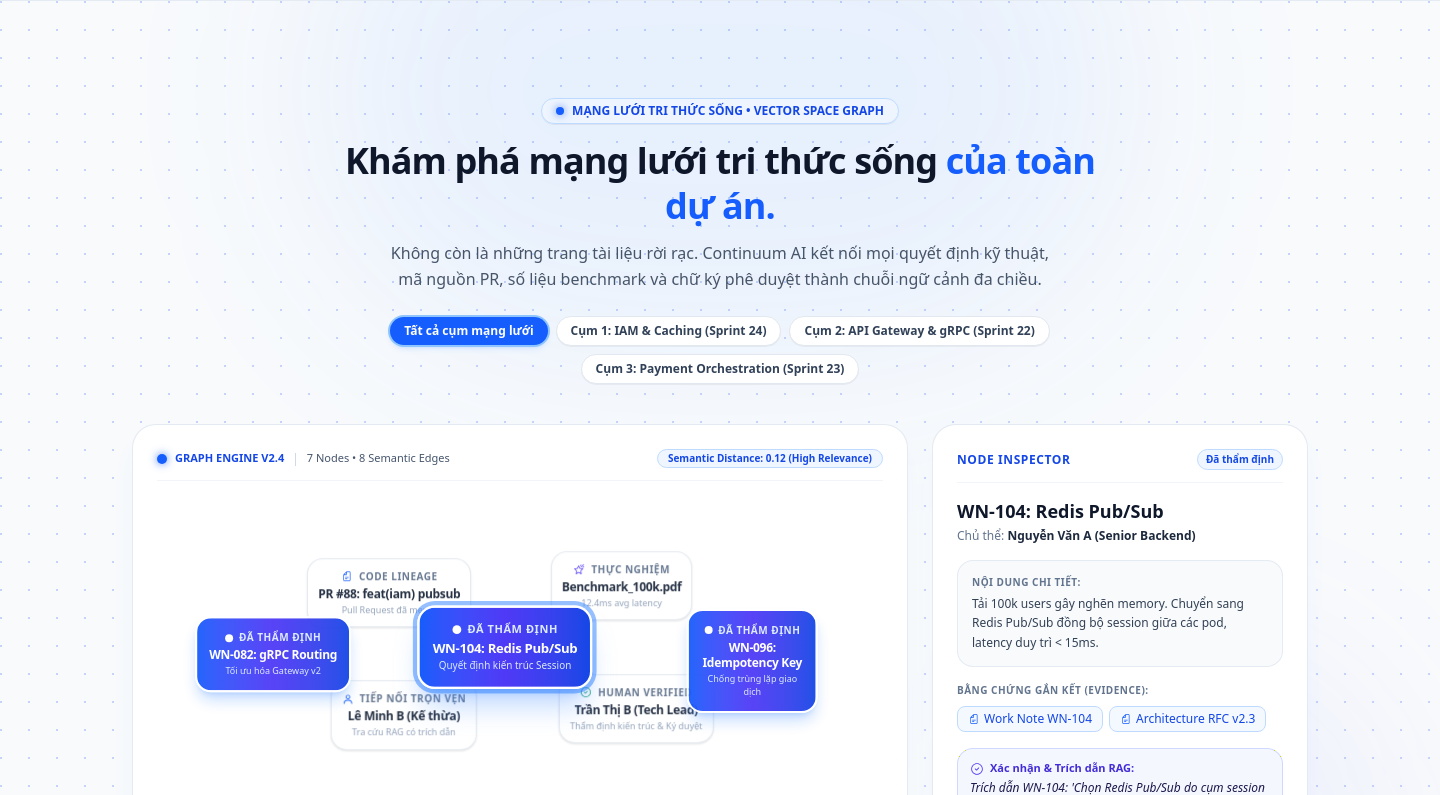
Test: Continuum AI — Living Knowledge Experience › KnowledgeGraphExperience (Full-Width Cinematic Graph) › renders living knowledge graph with clusters, node inspector, and RAG simulation
Expected: the text "MẠNG LƯỚI TRI THỨC SỐNG • VECTOR SPACE GRAPH" is shown, [572,103,884,119]
Expected: the heading "Khám phá mạng lưới tri thức sống" is shown, [345,136,937,185]
# Switch cluster
What coordinates should you click on to do the following:
click the button "Cụm 2: API Gateway & gRPC (Sprint 22)"
I would click on:
 (920, 331)
Its box is [790,316,1050,346].
(page scrolled)
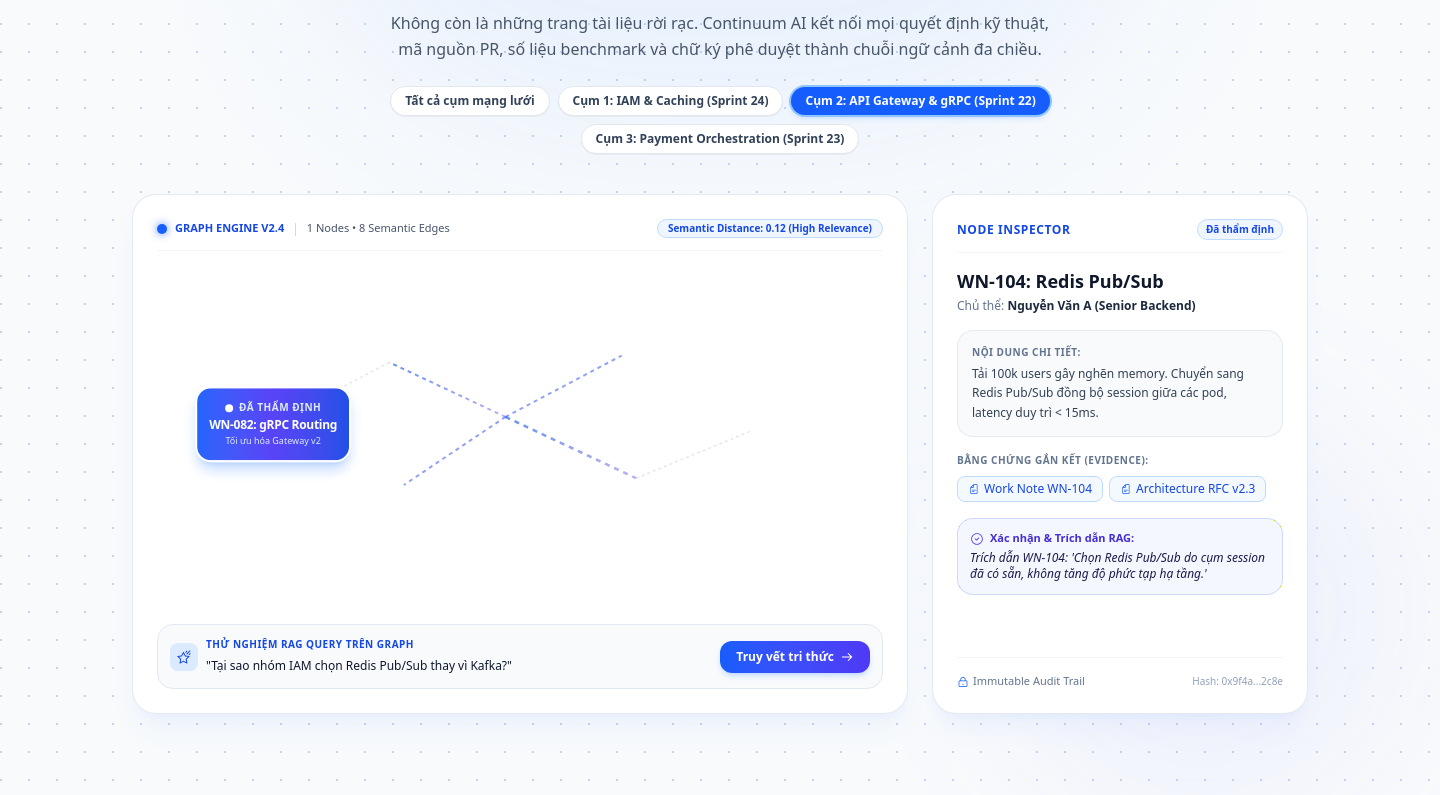
Expected: the text "WN-082: gRPC Routing" is shown, [209,417,337,432]
# Simulate query
What coordinates should you click on to do the following:
click the button "Truy vết tri thức"
I would click on:
 (795, 656)
Its box is [720,640,870,672].
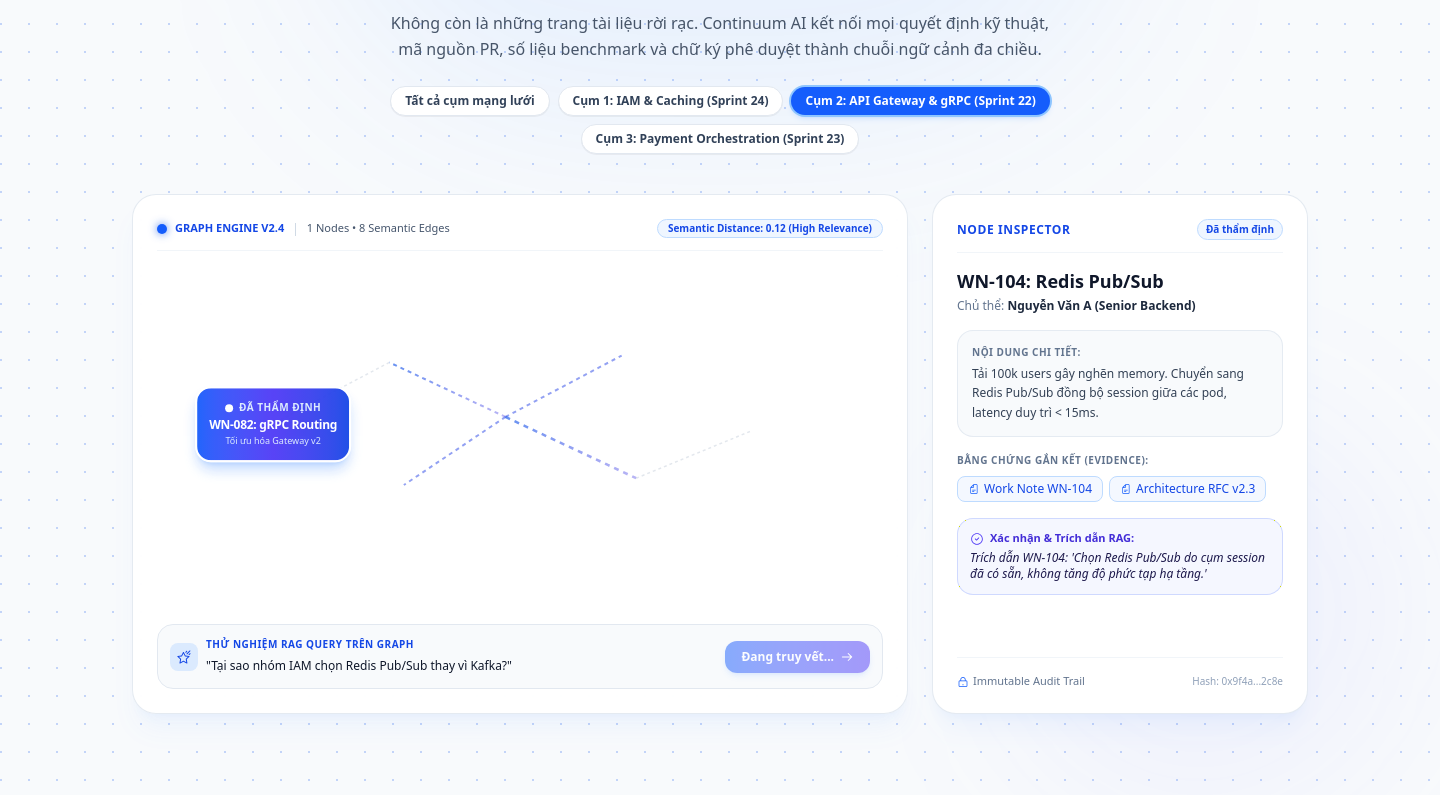
Result: the button named "truy vết tri thức" is disabled at [725,640,870,672]
